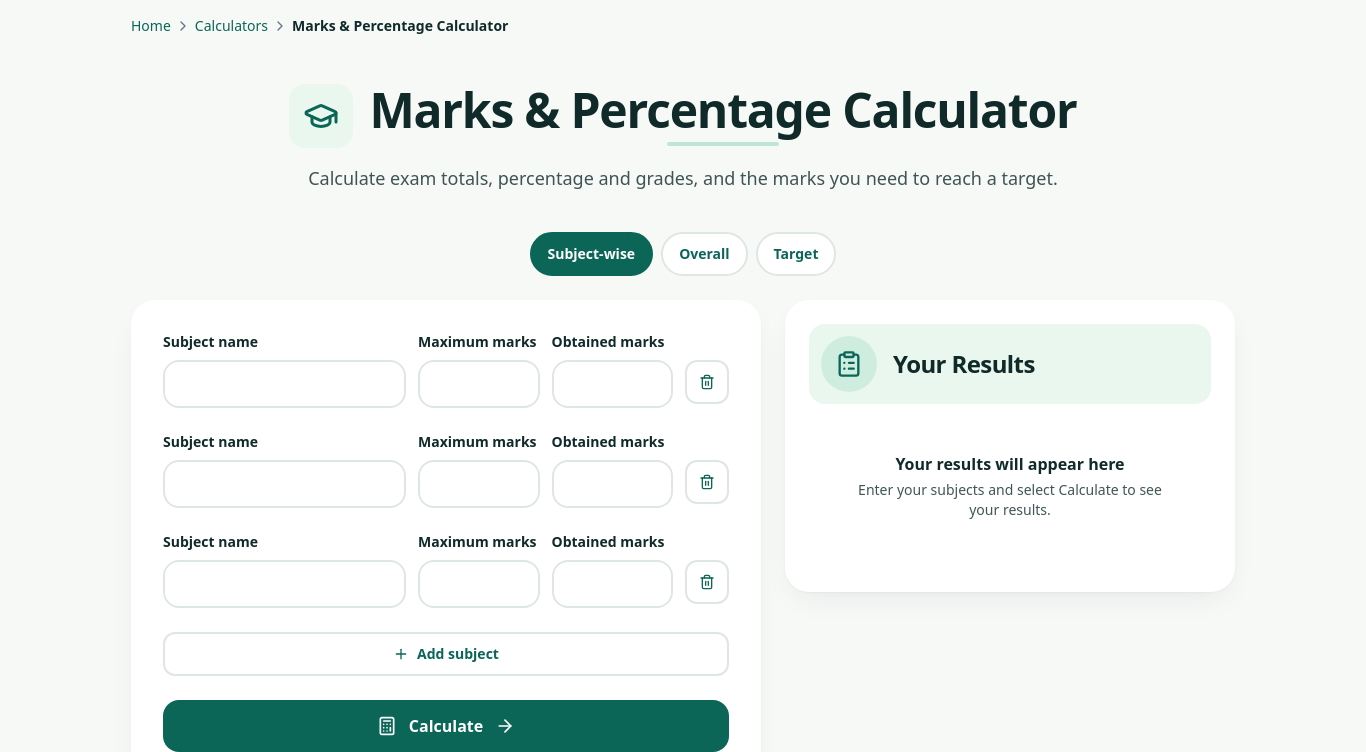
Test: subject-wise mode › shows validation errors and focuses the first invalid field
What coordinates should you click on to do the following:
click the button named "Remove subject 3"
I would click on:
 (707, 582)
Its box is [685,560,729,604].
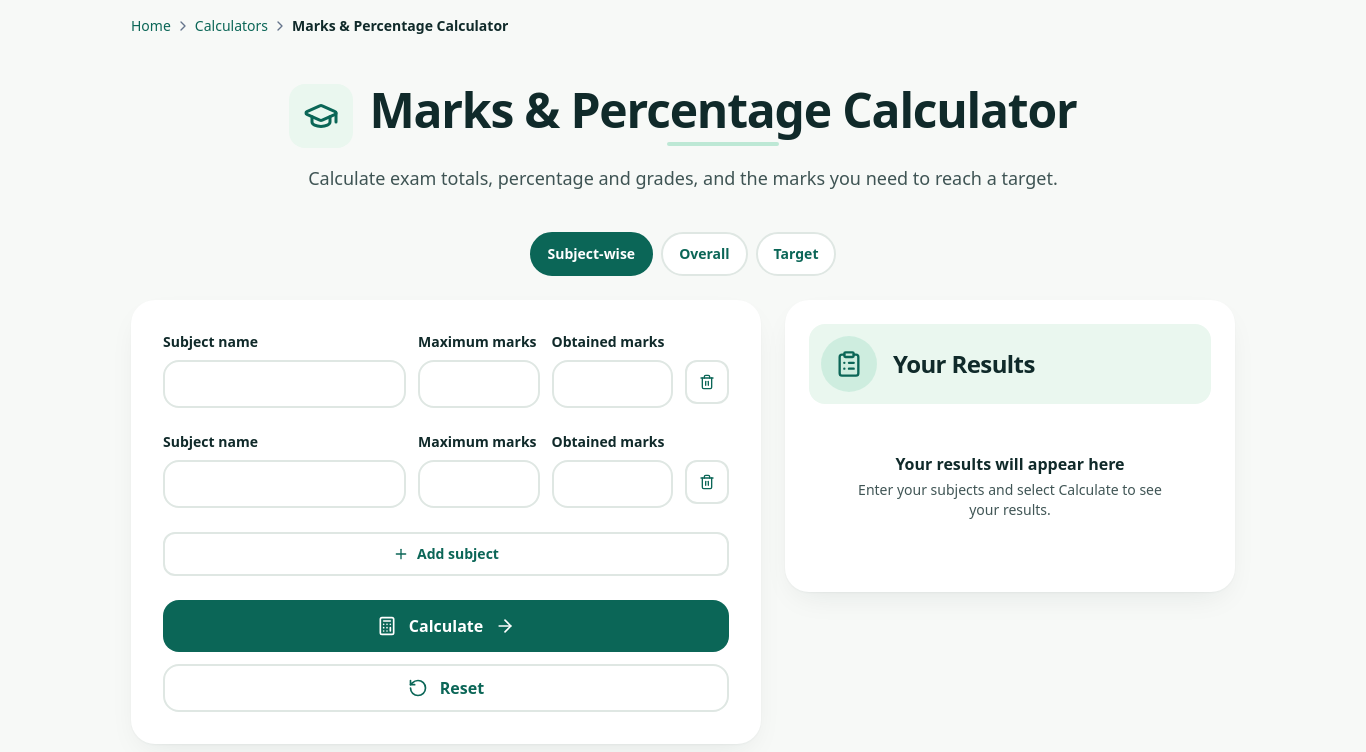
What coordinates should you click on to do the following:
click the button named "Remove subject 2"
I would click on:
 (707, 482)
Its box is [685,460,729,504].
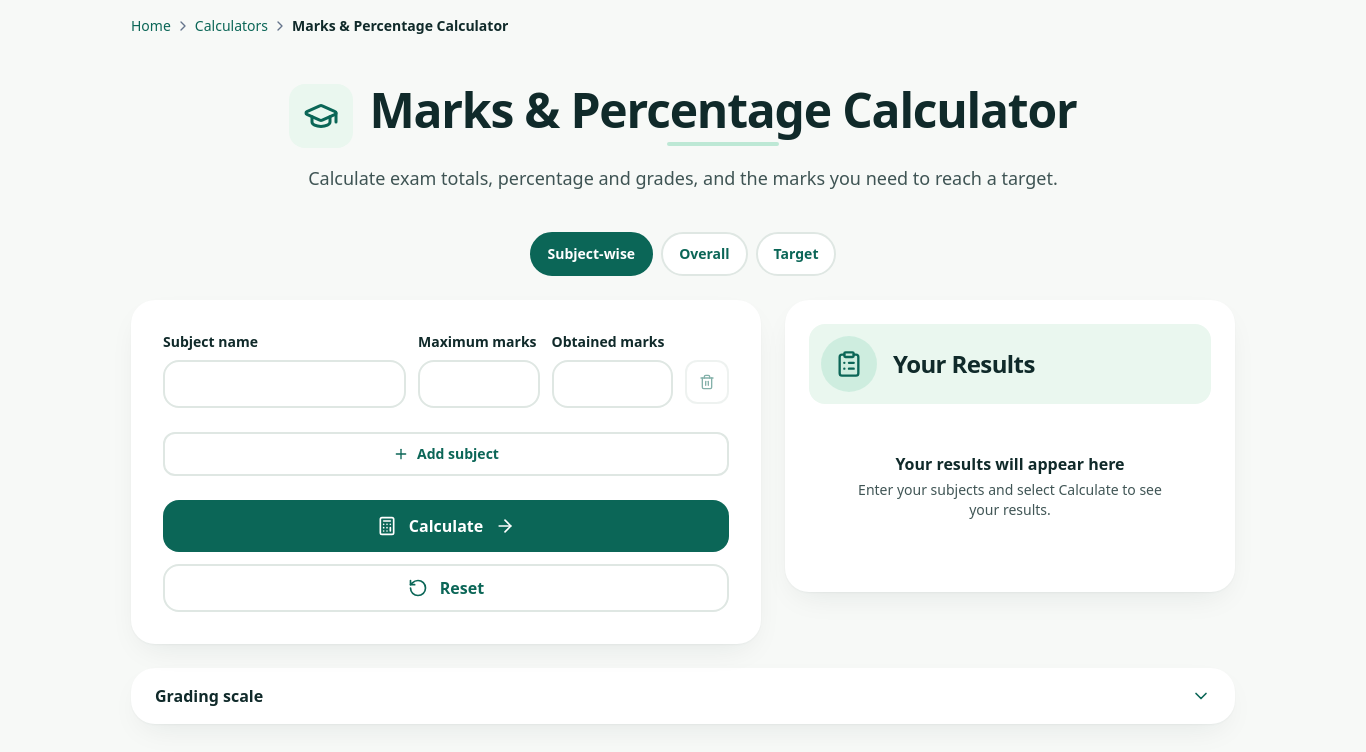
What coordinates should you click on to do the following:
click the button "Calculate"
I would click on:
 (446, 526)
Its box is [163,500,729,552].
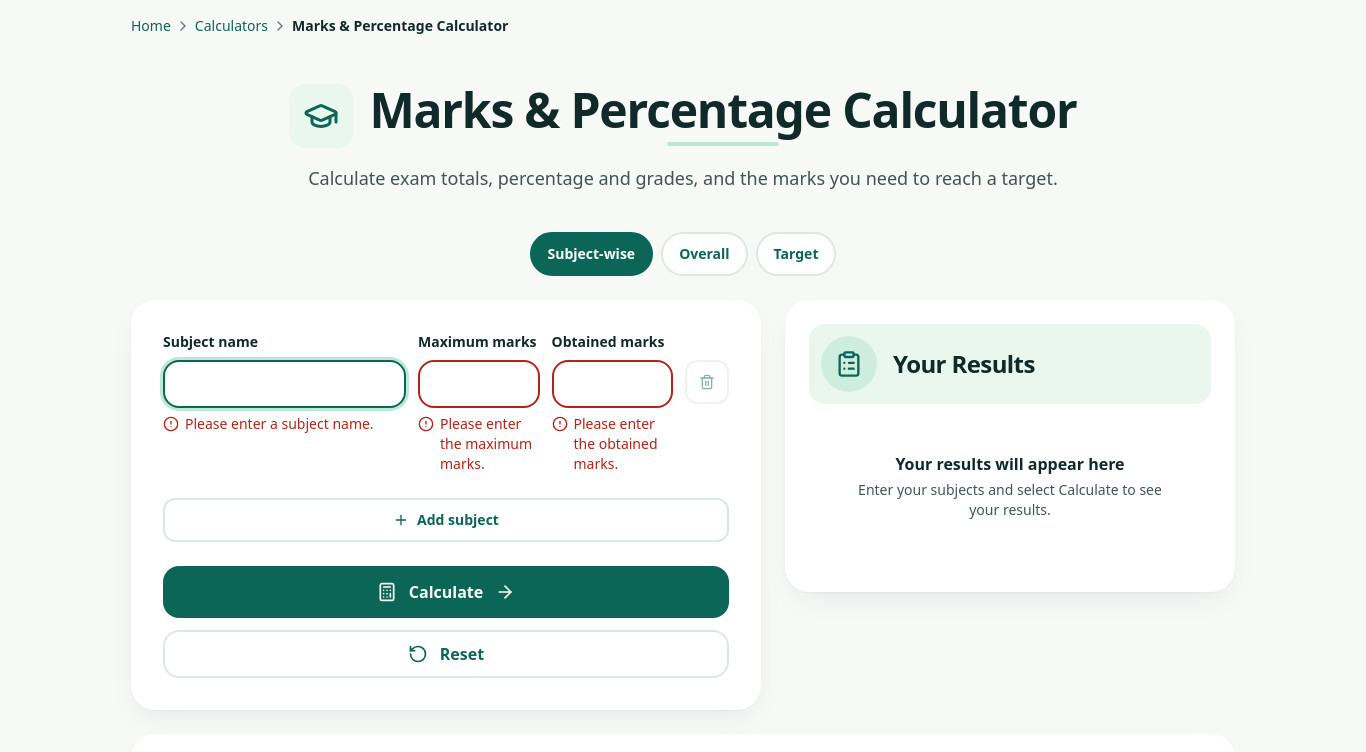
Check: the text "Please enter a subject name." is shown, box [163,414,406,434]
Check: the text "Please enter the maximum marks." is shown, box [418,414,540,474]
Check: the text "Please enter the obtained marks." is shown, box [552,414,673,474]
